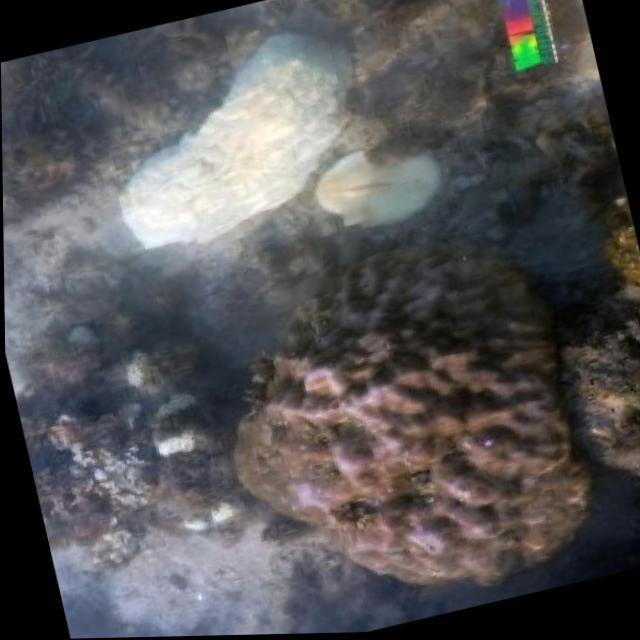Bleached Coral: (63, 4, 395, 298)
